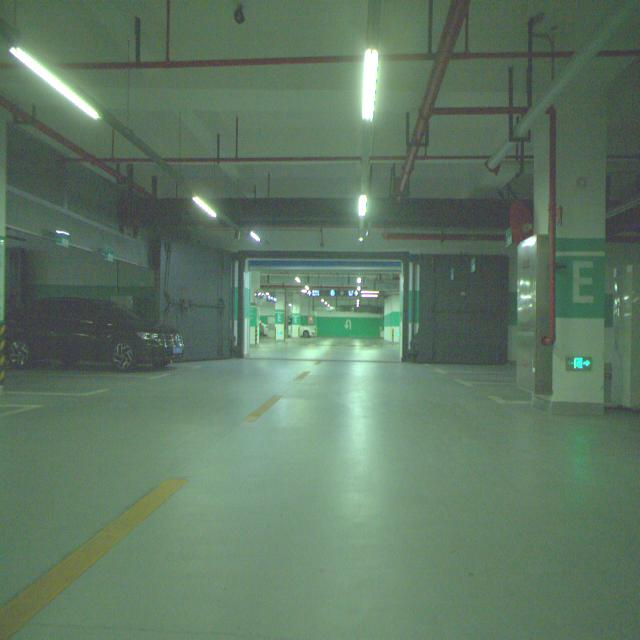pillar: (534, 108, 606, 411)
